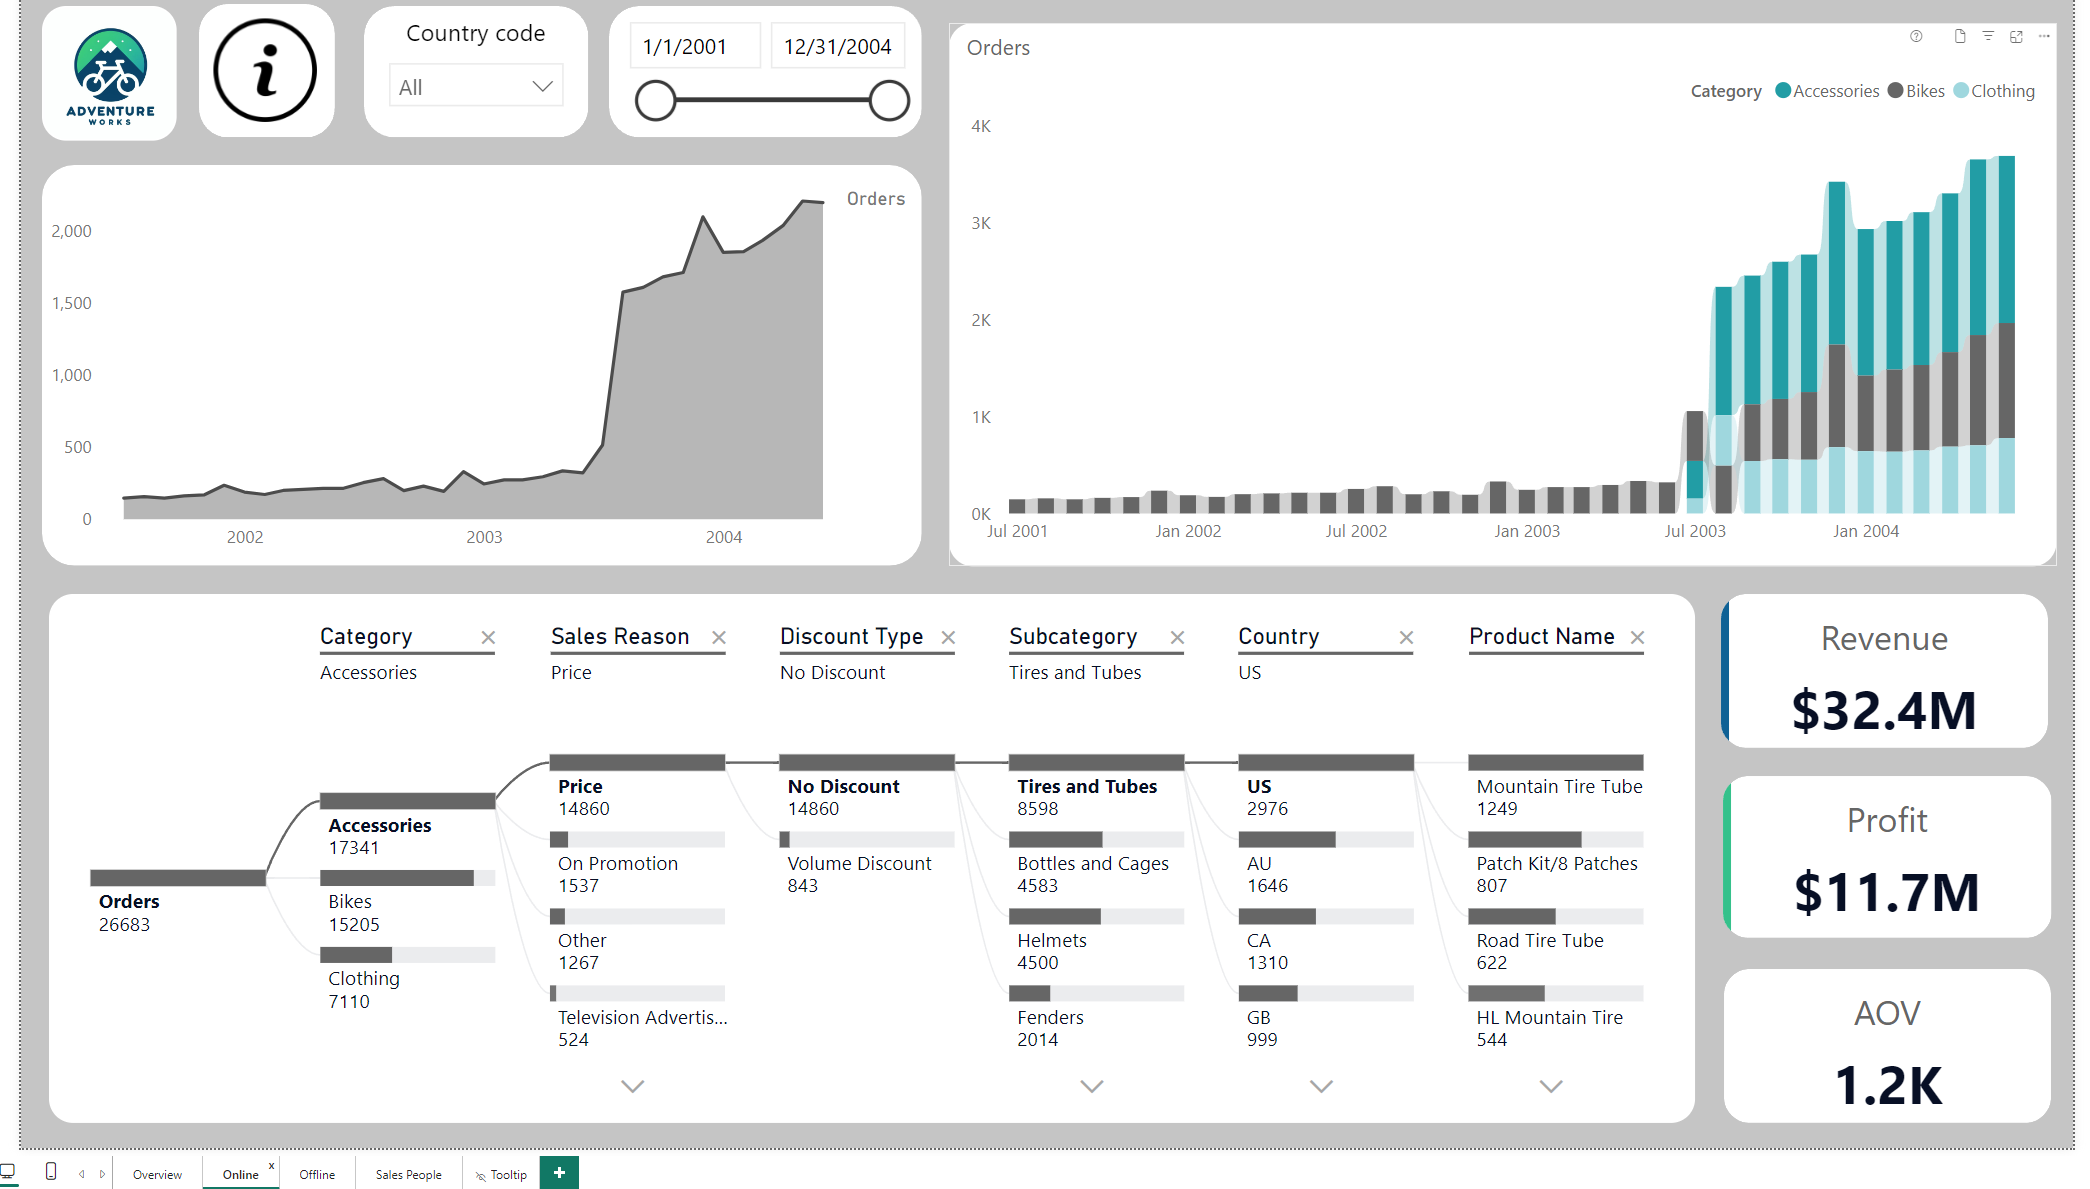

Layout of this report page (visuals, bound fields, positions):
{"tool":"powerbi","page":{"name":"Online","canvas":[1280,720],"ordinal":1},"visuals":[{"type":"shape","title":"Shape Country","box":[214,7.3,140,82],"z":0,"group":"g5"},{"type":"shape","title":"Shape Date","box":[366.7,7.3,195.3,82],"z":0,"group":"g4"},{"type":"shape","title":"Shape Orders","box":[13.1,106.6,548.9,250],"z":0,"group":"g3"},{"type":"cardVisual","title":"Card (Revenue)","fields":{"Data":["Sum(salesorderheader.TotalDue)"]},"box":[1055.5,369.5,214.8,106.2],"z":0},{"type":"slicer","title":"Order Date ","fields":{"Values":["CalendarTable.Date"]},"box":[366.7,7.3,195.3,82],"z":1000,"group":"g4"},{"type":"slicer","title":"Country code","fields":{"Values":["salesorderheader.country_code"]},"box":[219.3,13,128.7,76.3],"z":1000,"group":"g5"},{"type":"ribbonChart","title":"Orders","fields":{"Category":["CalendarTable.Date Hierarchy.MonthYear"],"Series":["Products.Category"],"Y":["CountNonNull(salesorderheader.SalesOrderID)"]},"box":[579.1,18.1,691.5,338.7],"z":1000,"group":"g2"},{"type":"stackedAreaChart","title":"Monthly Orders","fields":{"Category":["CalendarTable.Date Hierarchy.MonthYear"],"Y":["CountNonNull(salesorderheader.SalesOrderID)"]},"box":[13.1,106.6,548.9,250],"z":1000,"group":"g3"},{"type":"cardVisual","title":"Card (Profit)","fields":{"Data":["Sum(Products.Revenue)"]},"box":[1056.9,483.1,215,111.9],"z":1000},{"type":"decompositionTreeVisual","fields":{"ExplainBy":["Products.Category","SalesReason.Name","Products.DiscountType","Products.Subcategory","salesorderheader.country_code","Products.ProductName"],"Analyze":["CountNonNull(salesorderheader.SalesOrderID)"]},"box":[17.5,374.6,1027.3,330.4],"z":1500,"group":"g1"},{"type":"cardVisual","title":"Card (AOV)","fields":{"Data":["salesorderheader.AOV"]},"box":[1057.8,603.1,214.1,106.2],"z":2000},{"type":"group","id":"g1","title":"Tree","box":[17.5,374.6,1027.3,330.4],"z":3000},{"type":"group","id":"g2","title":"Categories","box":[579.1,18.1,691.3,338.5],"z":4000},{"type":"group","id":"g3","title":"Orders","box":[13.1,106.6,549.2,249.4],"z":5000},{"type":"group","id":"g4","title":"Date slicer","box":[366.7,7.3,195.3,82],"z":6000},{"type":"group","id":"g5","title":"Country slicer","box":[214,7.3,140,82],"z":7000},{"type":"actionButton","title":"Info button 2","box":[111.3,6,84.7,83.3],"z":8000},{"type":"actionButton","title":"Info button 1","box":[111.3,6,84.7,83.3],"z":9000},{"type":"image","title":"Logo","box":[13.1,7.5,83.5,83.5],"z":13000}]}

Visuals, with their boxes on the page's 1280x720 design canvas (x1, y1, x2, y2). These are canvas units, not pixel positions in the 2090x1189 screenshot, which may show the page scaled, cropped or inside an application window:
"Shape Country" shape: left=214, top=7, right=354, bottom=89
"Shape Date" shape: left=367, top=7, right=562, bottom=89
"Shape Orders" shape: left=13, top=107, right=562, bottom=357
"Card (Revenue)" cardVisual: left=1056, top=370, right=1270, bottom=476
"Order Date " slicer: left=367, top=7, right=562, bottom=89
"Country code" slicer: left=219, top=13, right=348, bottom=89
"Orders" ribbonChart: left=579, top=18, right=1271, bottom=357
"Monthly Orders" stackedAreaChart: left=13, top=107, right=562, bottom=357
"Card (Profit)" cardVisual: left=1057, top=483, right=1272, bottom=595
decompositionTreeVisual - Products.Category x SalesReason.Name: left=18, top=375, right=1045, bottom=705
"Card (AOV)" cardVisual: left=1058, top=603, right=1272, bottom=709
"Tree" group: left=18, top=375, right=1045, bottom=705
"Categories" group: left=579, top=18, right=1270, bottom=357
"Orders" group: left=13, top=107, right=562, bottom=356
"Date slicer" group: left=367, top=7, right=562, bottom=89
"Country slicer" group: left=214, top=7, right=354, bottom=89
"Info button 2" actionButton: left=111, top=6, right=196, bottom=89
"Info button 1" actionButton: left=111, top=6, right=196, bottom=89
"Logo" image: left=13, top=8, right=97, bottom=91
